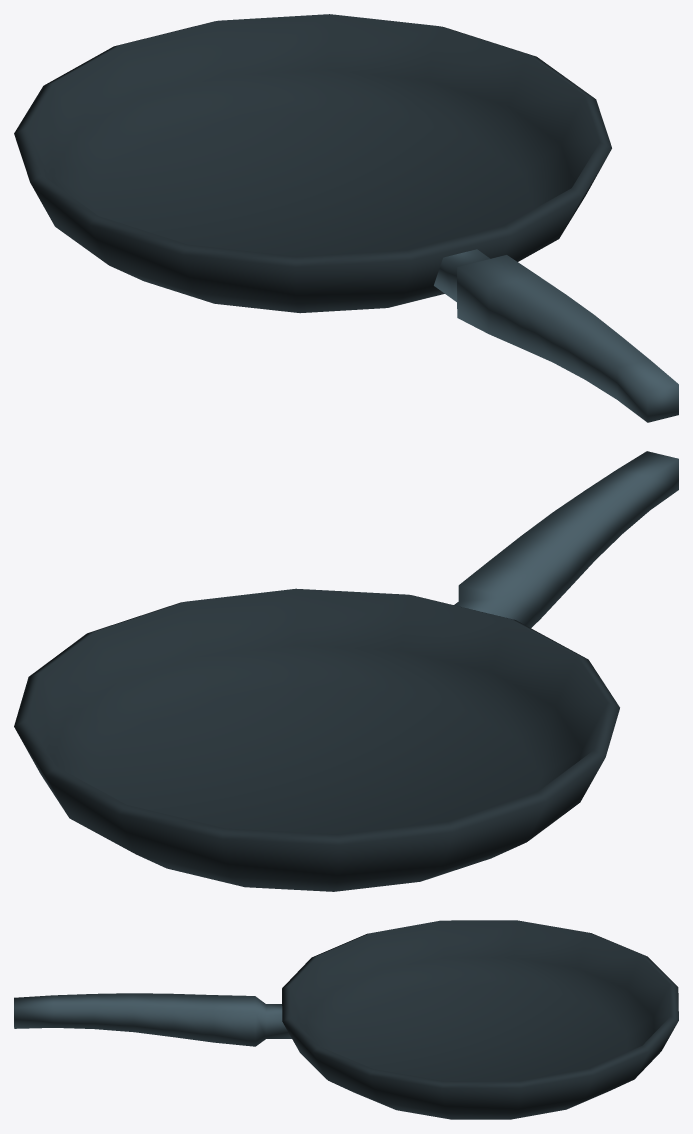
File: FryPan.fbx
The picture shows the model from 3 angles, top to bottom: view 1: azimuth 30°, elevation 25°; view 2: azimuth 150°, elevation 25°; view 3: azimuth 270°, elevation 25°; orthographic projection. The views are drawn at different scales.
Parts seen in each view (by area): view 1: FryPan; view 2: FryPan; view 3: FryPan.
Part boxes in pixels (box(x1,y1,x2,y2)): FryPan: box(14, 14, 678, 422); FryPan: box(14, 451, 678, 891); FryPan: box(14, 920, 678, 1119).
Size of the model in its own units: 50.85 by 8.12 by 85.14.
